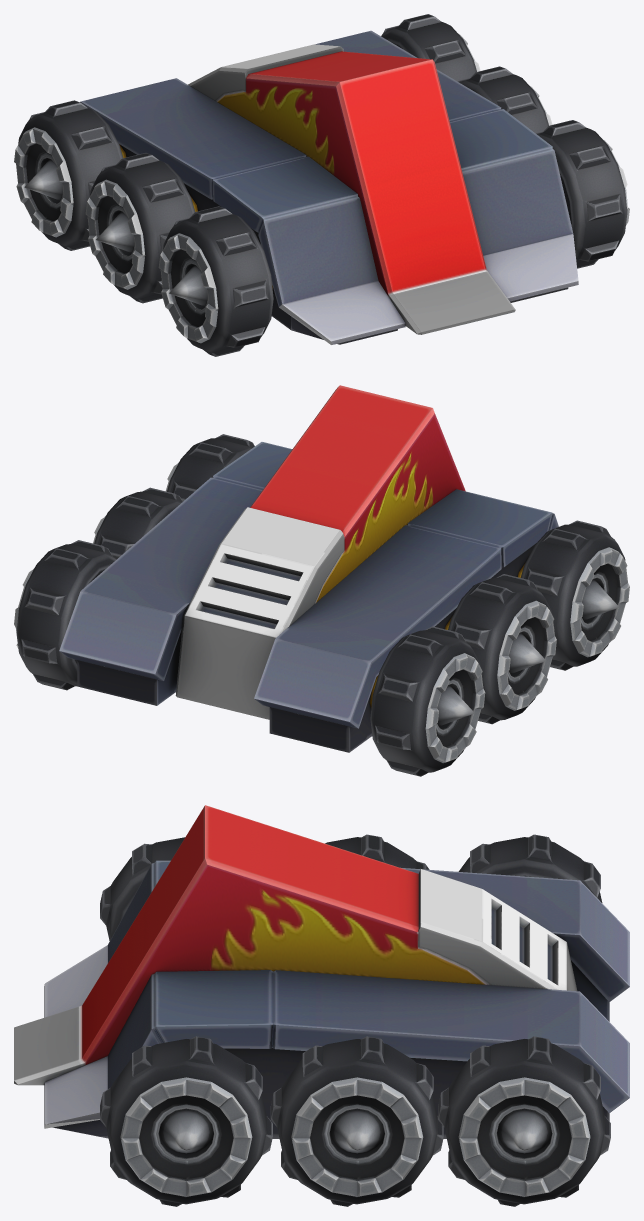
Rendered from body_ch203_a2.fbx.
The picture shows the model from 3 angles, top to bottom: view 1: azimuth 30°, elevation 25°; view 2: azimuth 150°, elevation 25°; view 3: azimuth 270°, elevation 25°; orthographic projection. The views are drawn at different scales.
Parts seen in each view (by area): view 1: Cube.325, wheel 4.022, wheel 4.023, wheel 4.024, wheel 4.016, wheel 4.018, wheel 4.017; view 2: Cube.325, wheel 4.024, wheel 4.022, wheel 4.023, wheel 4.018, wheel 4.017, wheel 4.016; view 3: Cube.325, wheel 4.018, wheel 4.016, wheel 4.017, wheel 4.024, wheel 4.022, wheel 4.023.
Part boxes in pixels (x1,y1,x2,y2): Cube.325: (80, 30, 578, 344); wheel 4.022: (158, 206, 273, 356); wheel 4.023: (85, 153, 195, 303); wheel 4.024: (14, 100, 123, 250); wheel 4.016: (536, 120, 629, 268); wheel 4.018: (381, 14, 480, 80); wheel 4.017: (457, 66, 552, 133); Cube.325: (59, 385, 558, 752); wheel 4.024: (370, 626, 485, 776); wheel 4.022: (520, 520, 629, 670); wheel 4.023: (448, 574, 556, 724); wheel 4.018: (14, 540, 116, 690); wheel 4.017: (93, 487, 182, 559); wheel 4.016: (166, 434, 254, 501); Cube.325: (14, 805, 629, 1138); wheel 4.018: (438, 1036, 610, 1206); wheel 4.016: (100, 1036, 272, 1206); wheel 4.017: (270, 1036, 443, 1206); wheel 4.024: (458, 834, 602, 902); wheel 4.022: (100, 837, 184, 940); wheel 4.023: (325, 834, 429, 869).
Bounding box in the file's own units: 270 × 131 × 273.
